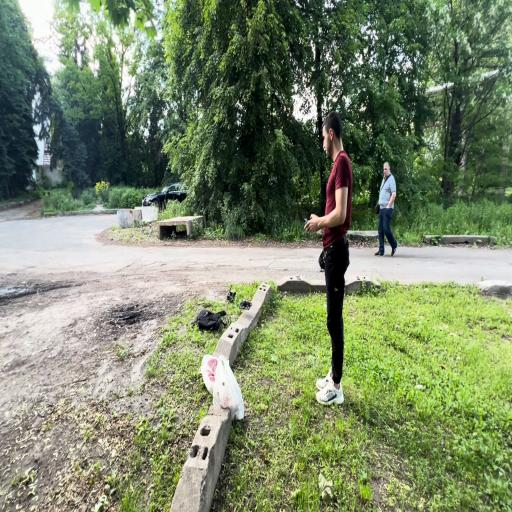drone: (240, 299, 252, 310)
